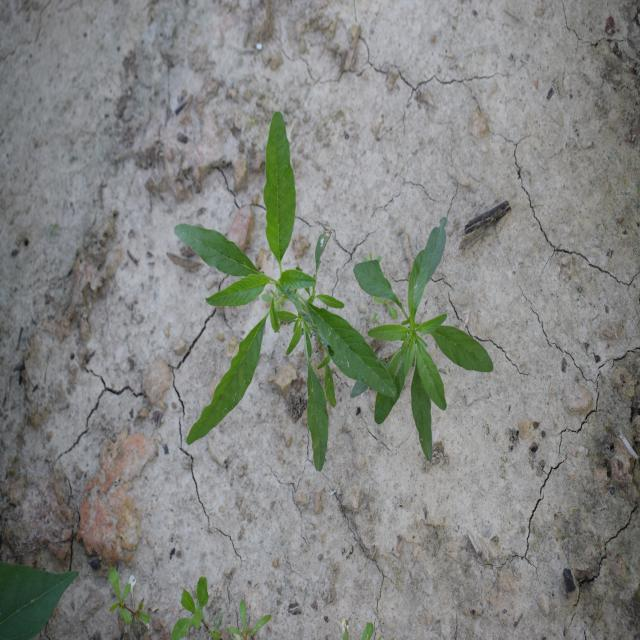Waterhemp: (172, 111, 398, 473), (350, 216, 494, 465)
